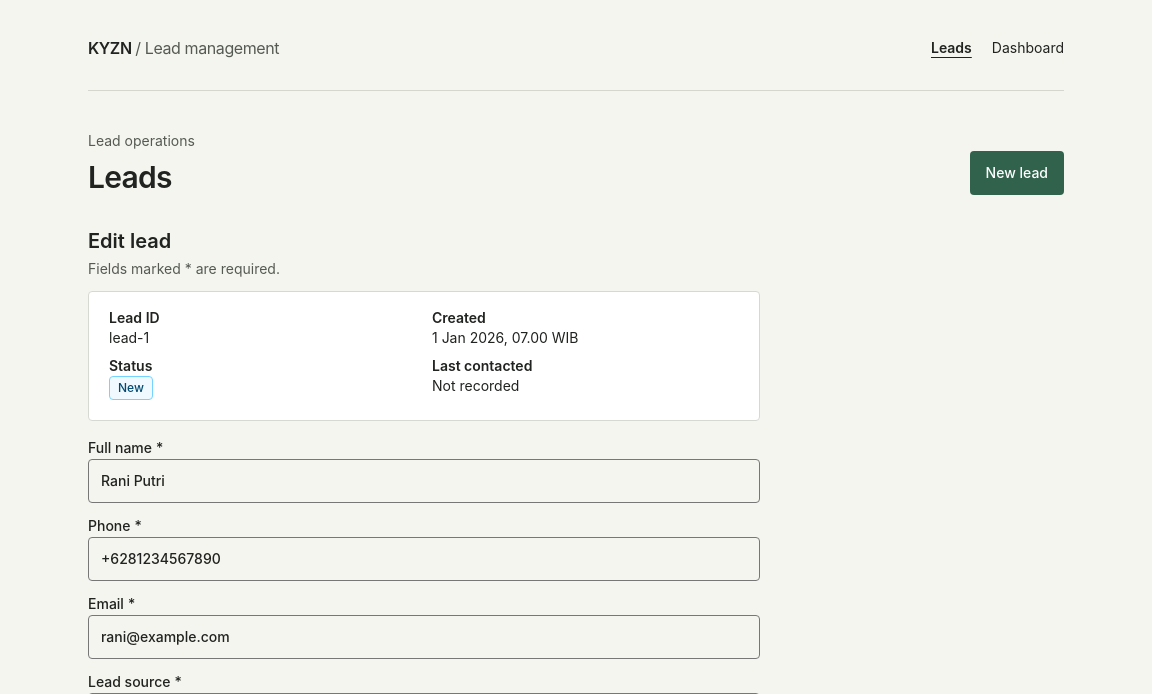
Test: lead forms › edit excludes itself from duplicate checks and patches only editable fields
Replace the text in the field labelled "Full name *" with "Rani Updated" at x=424, y=481, box [88, 459, 760, 503]
(page scrolled)
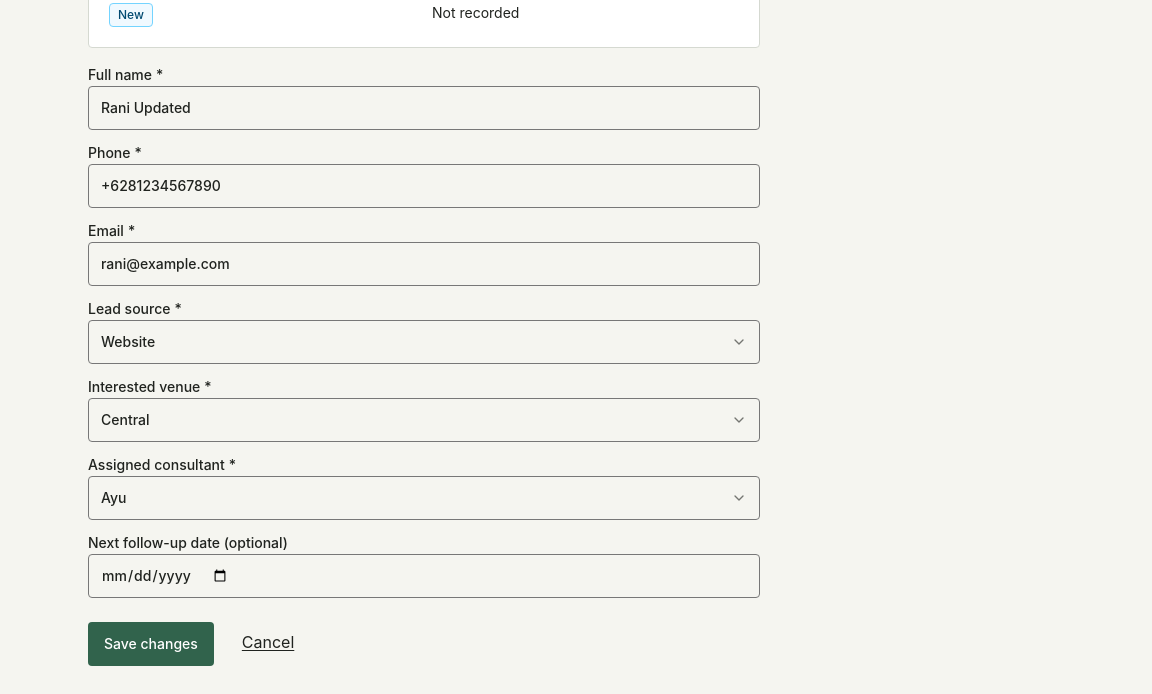
Click the button "Save changes" at x=151, y=644, box [88, 622, 214, 666]
(page scrolled)
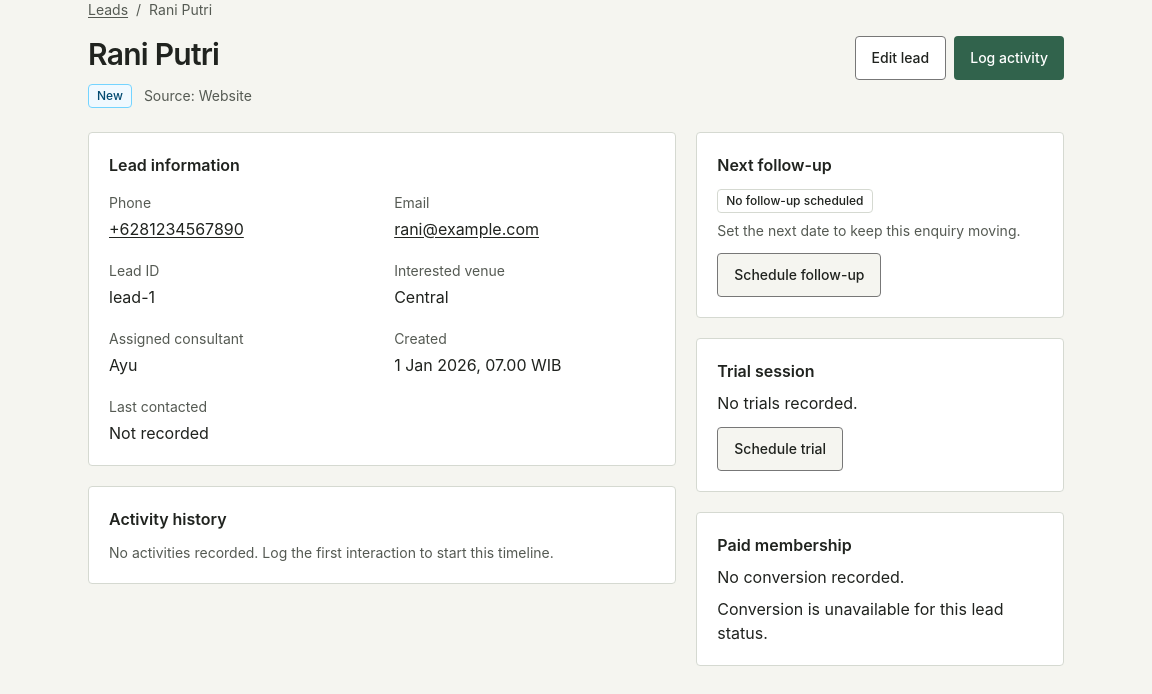
Expected: the heading "Rani Putri" is shown, [88, 36, 219, 72]
